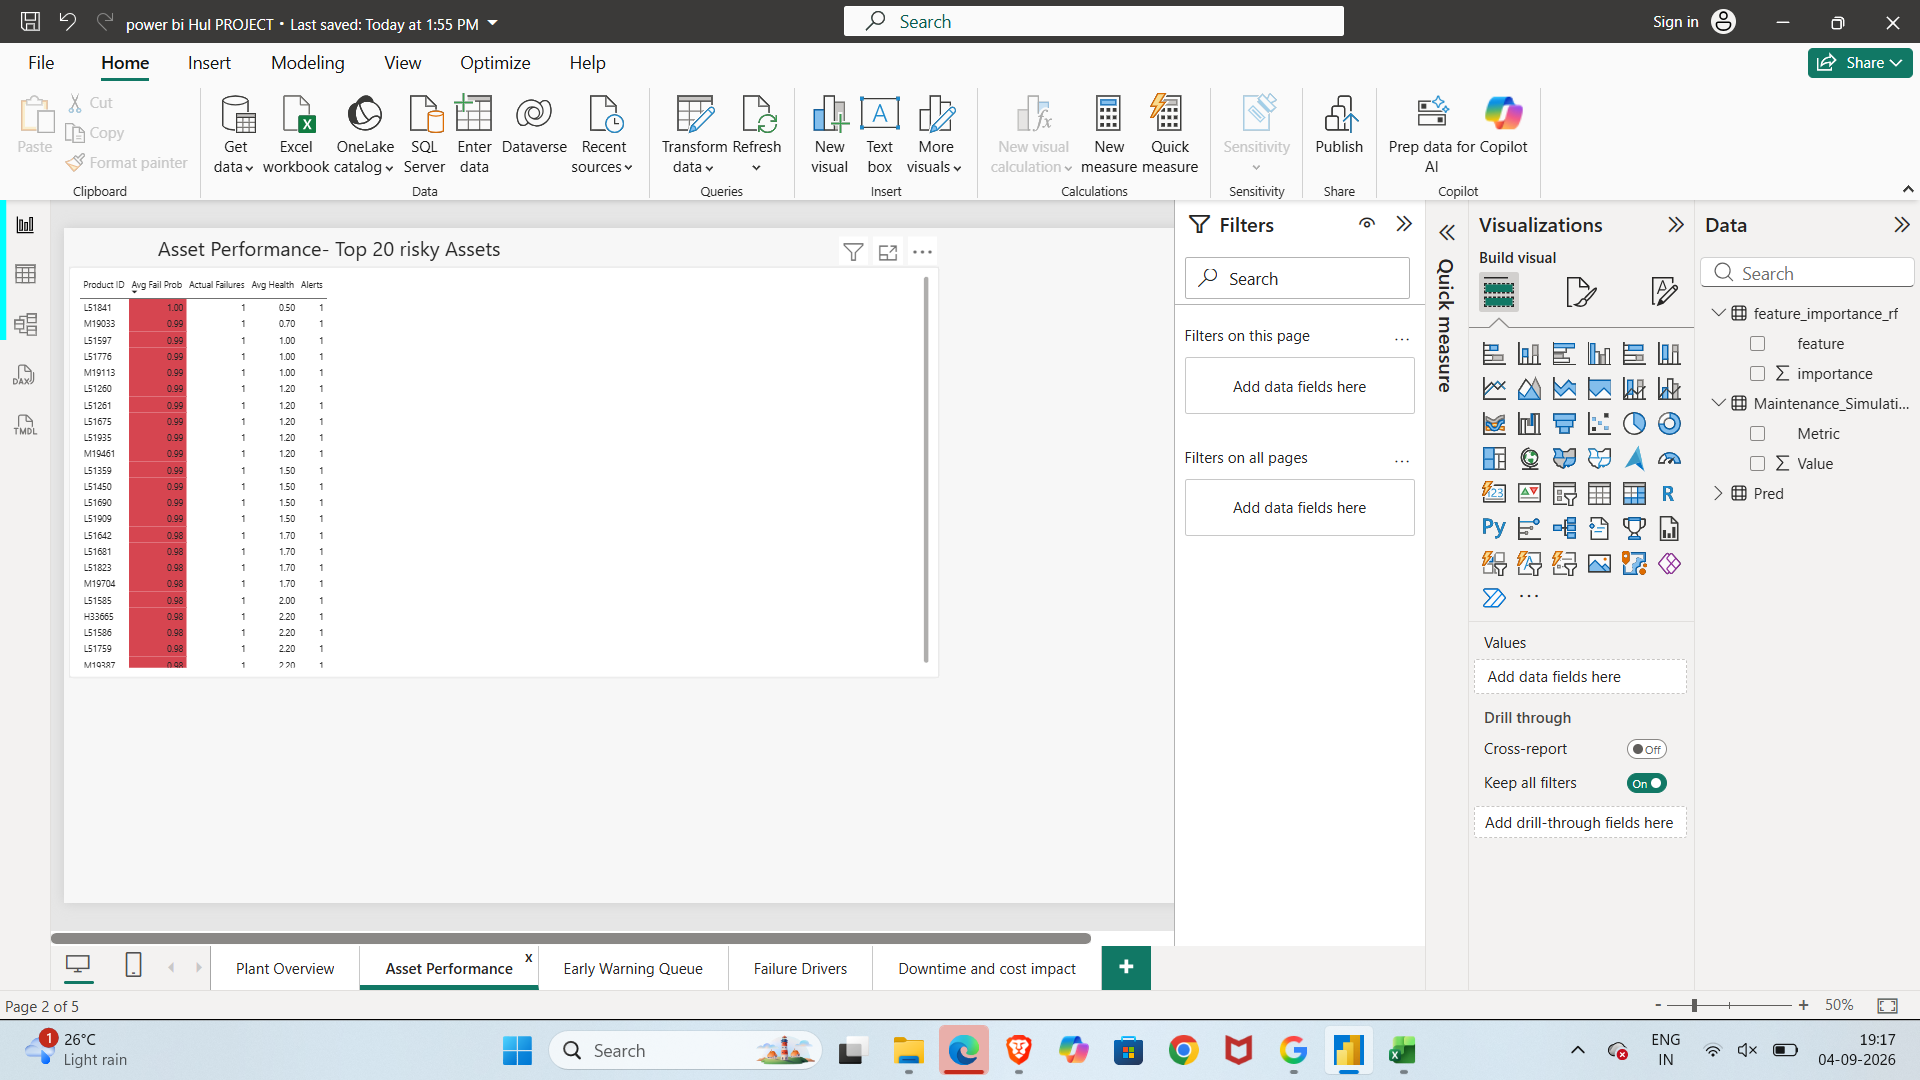

This screenshot's page, from the dashboard's own definition file:
{"tool":"powerbi","page":{"name":"Asset Performance","canvas":[1920,1080],"ordinal":1},"visuals":[{"type":"tableEx","fields":{"Values":["Pred.Product ID","Avg(Pred.Failure_Probability)","Sum(Pred.Machine failure)","Avg(Pred.Health_Score)","Sum(Pred.Early_Warning)"]},"box":[7,61,1393.5,658.7],"z":0},{"type":"textbox","box":[150,10,571,65],"z":1000}]}

Visuals, with their boxes on the page's 1920x1080 design canvas (x1, y1, x2, y2). These are canvas units, not pixel positions in the 1920x1080 screenshot, which may show the page scaled, cropped or inside an application window:
tableEx - Pred.Product ID x Avg(Pred.Failure_Probability): (x1=7, y1=61, x2=1400, y2=720)
textbox: (x1=150, y1=10, x2=721, y2=75)
